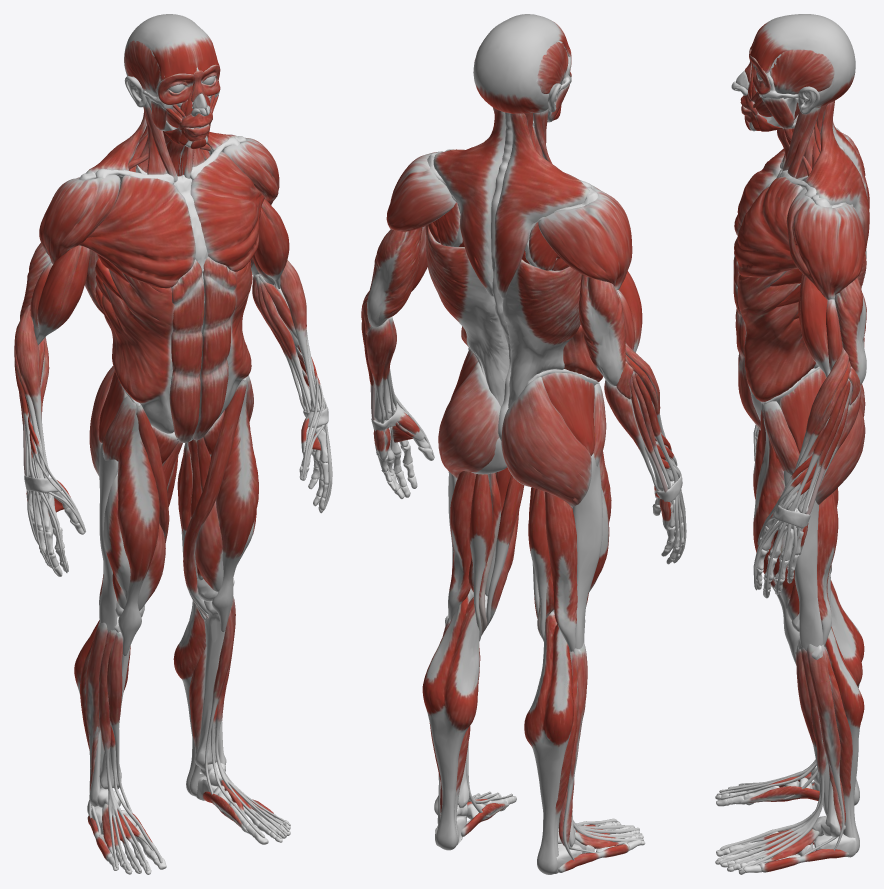
File: muscles.glb
3 views of the same model, side by side, from view 1: azimuth 30°, elevation 25°; view 2: azimuth 150°, elevation 25°; view 3: azimuth 270°, elevation 25° (orthographic). The views are drawn at different scales.
Visible parts, largest first — view 1: Object_23, Object_17, Object_29, Object_25, Object_31, Object_15, Object_33, Object_5, Object_7, Object_11, Object_27, Object_3 (+3 smaller); view 2: Object_13, Object_7, Object_3, Object_9, Object_5, Object_33, Object_15, Object_31, Object_29, Object_11, Object_25, Object_27 (+4 smaller); view 3: Object_23, Object_25, Object_15, Object_29, Object_31, Object_5, Object_7, Object_3, Object_33, Object_13, Object_11, Object_17 (+3 smaller).
Boxes of the visible parts, x1,y1,x2,y2 form: Object_23: [79, 152, 264, 442]; Object_17: [103, 377, 258, 656]; Object_29: [26, 49, 328, 874]; Object_25: [85, 595, 290, 872]; Object_31: [14, 260, 332, 575]; Object_15: [124, 14, 220, 148]; Object_33: [20, 199, 289, 345]; Object_5: [39, 137, 279, 263]; Object_7: [74, 572, 206, 814]; Object_11: [24, 76, 328, 631]; Object_27: [151, 410, 224, 615]; Object_3: [89, 366, 253, 476]; Object_13: [425, 109, 589, 407]; Object_7: [422, 595, 578, 874]; Object_3: [438, 349, 606, 507]; Object_9: [448, 471, 577, 651]; Object_5: [386, 151, 632, 289]; Object_33: [367, 226, 642, 385]; Object_15: [473, 14, 571, 121]; Object_31: [361, 291, 686, 562]; Object_29: [371, 41, 684, 873]; Object_11: [371, 83, 682, 649]; Object_25: [437, 617, 643, 872]; Object_27: [485, 467, 554, 629]; Object_23: [733, 149, 815, 430]; Object_25: [717, 644, 849, 872]; Object_15: [740, 14, 855, 131]; Object_29: [715, 48, 857, 874]; Object_31: [753, 347, 861, 597]; Object_5: [786, 127, 865, 299]; Object_7: [824, 579, 864, 852]; Object_3: [763, 368, 865, 504]; Object_33: [798, 250, 866, 384]; Object_13: [770, 101, 869, 368]; Object_11: [731, 71, 846, 650]; Object_17: [753, 402, 799, 665].
Size of the model in its own units: 0.6386 by 1.66 by 0.2856.
16 materials, 14 textured.
